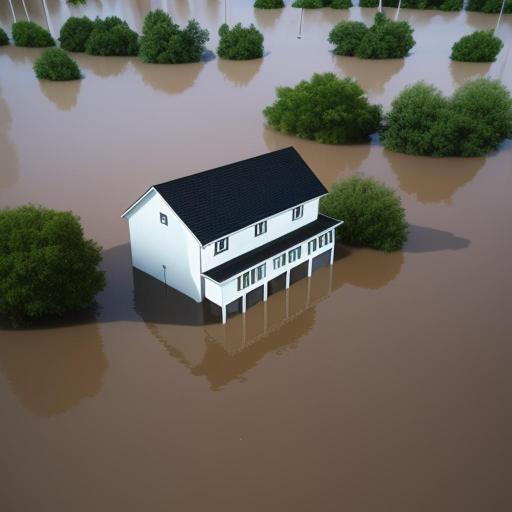flood: (0, 0, 512, 512), (46, 0, 225, 51), (25, 0, 46, 26), (0, 0, 12, 33), (12, 0, 24, 19)
house: (120, 147, 347, 325)
